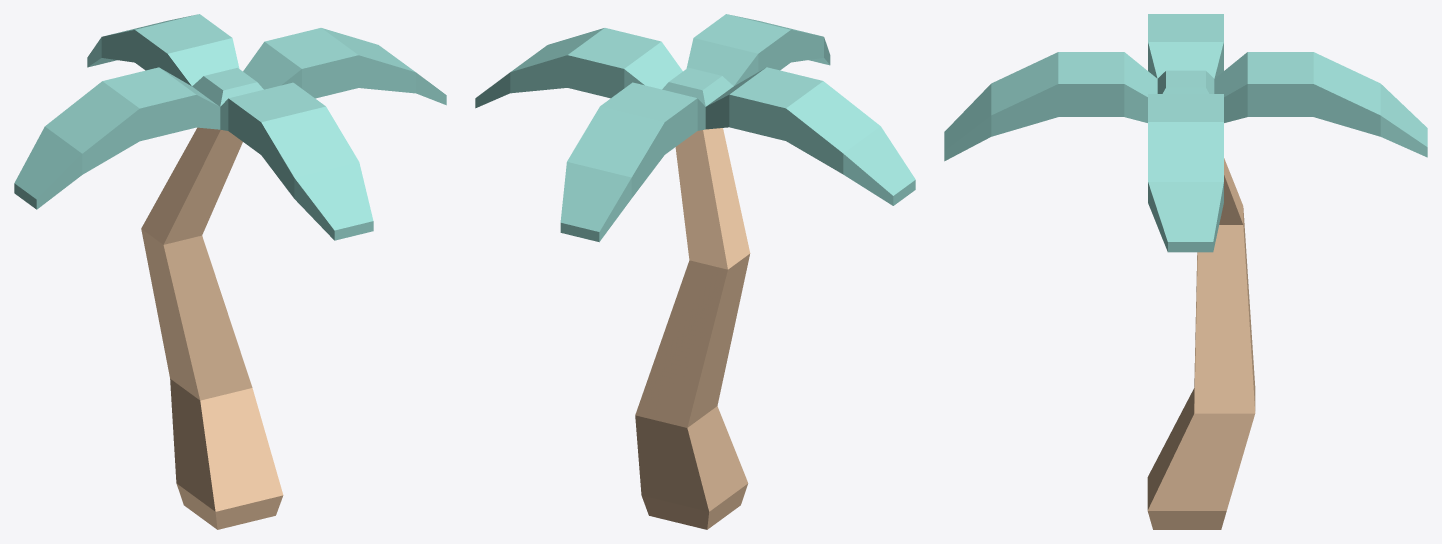
Rendered from palm_small.glb.
3 renders of one model, left to right at view 1: azimuth 30°, elevation 25°; view 2: azimuth 150°, elevation 25°; view 3: azimuth 270°, elevation 25°, orthographic.
Parts seen in each view (by area): view 1: Group 157, Group 155; view 2: Group 157, Group 155; view 3: Group 157, Group 155.
Boxes of the visible parts, box(x1,y1,x2,y2) form: Group 157: box(14, 14, 446, 240); Group 155: box(141, 127, 283, 529); Group 157: box(475, 14, 915, 242); Group 155: box(635, 128, 750, 529); Group 157: box(944, 14, 1427, 252); Group 155: box(1147, 158, 1255, 529).
Bounding box in the file's own units: 0.7719 × 0.7882 × 0.7719.
